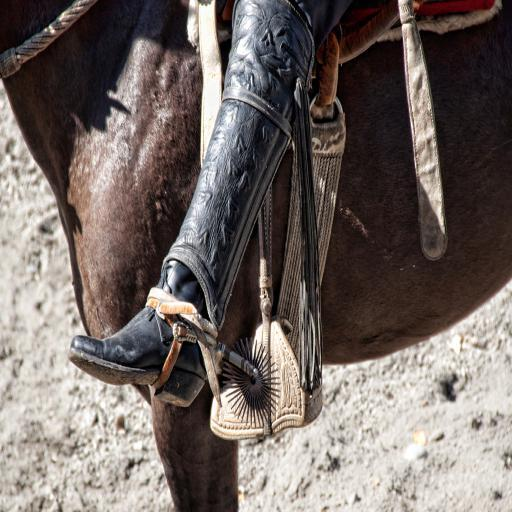horse: (0, 0, 510, 512)
